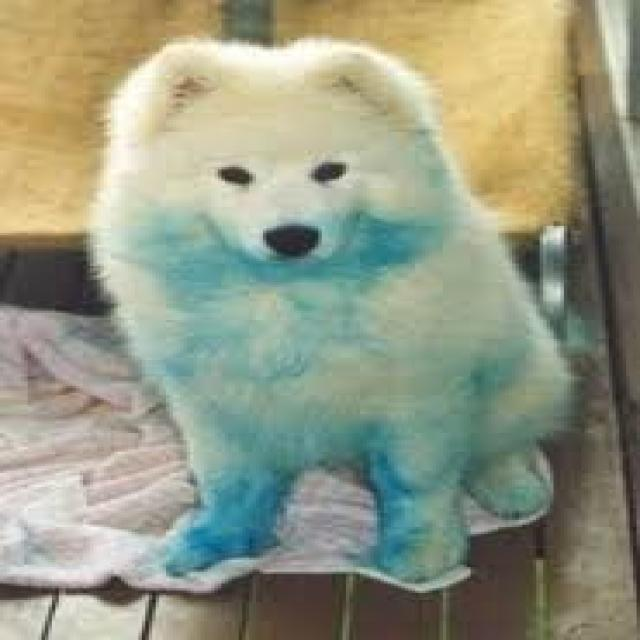dogs: (86, 35, 584, 582)
